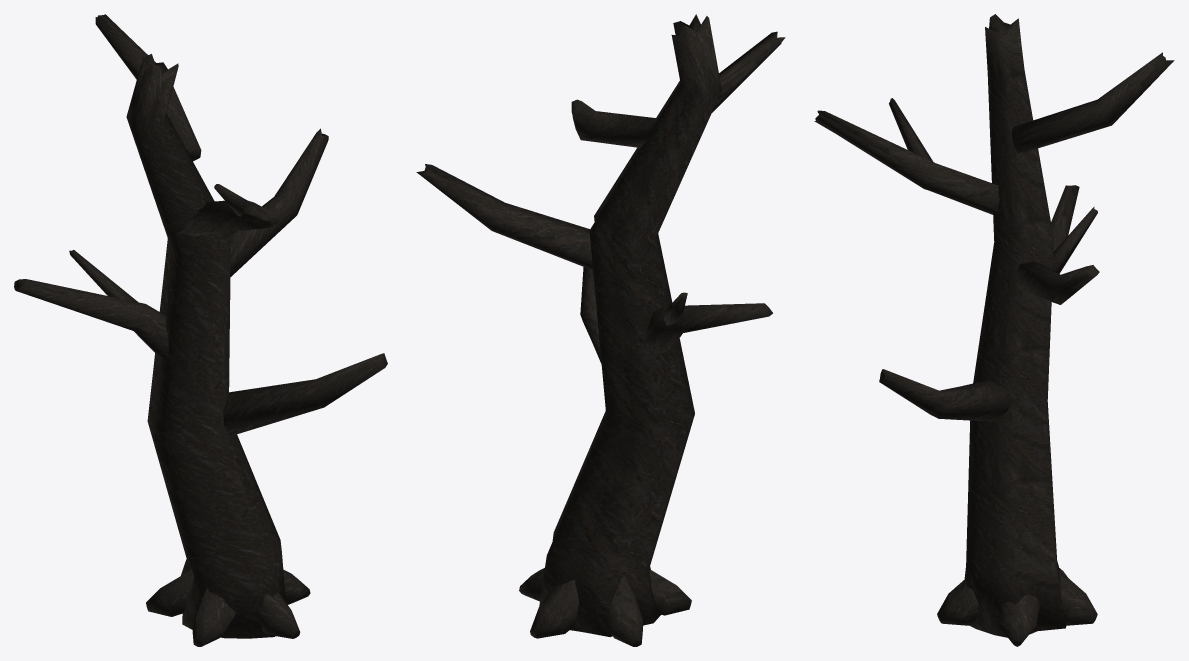
Rendered from area4-charred-trunk-b.glb.
3 renders of one model, left to right at view 1: azimuth 30°, elevation 25°; view 2: azimuth 150°, elevation 25°; view 3: azimuth 270°, elevation 25°, orthographic. The views are drawn at different scales.
Visible parts, largest first — view 1: A04_Scorched_Trunk_B; view 2: A04_Scorched_Trunk_B; view 3: A04_Scorched_Trunk_B.
Boxes of the visible parts, x1=… form: A04_Scorched_Trunk_B: x1=14, y1=14, x2=387, y2=646; A04_Scorched_Trunk_B: x1=416, y1=14, x2=785, y2=646; A04_Scorched_Trunk_B: x1=814, y1=14, x2=1174, y2=646.
Bounding box in the file's own units: 2.51 × 4.3 × 2.51.
Materials: 1 (1 with a texture image).
